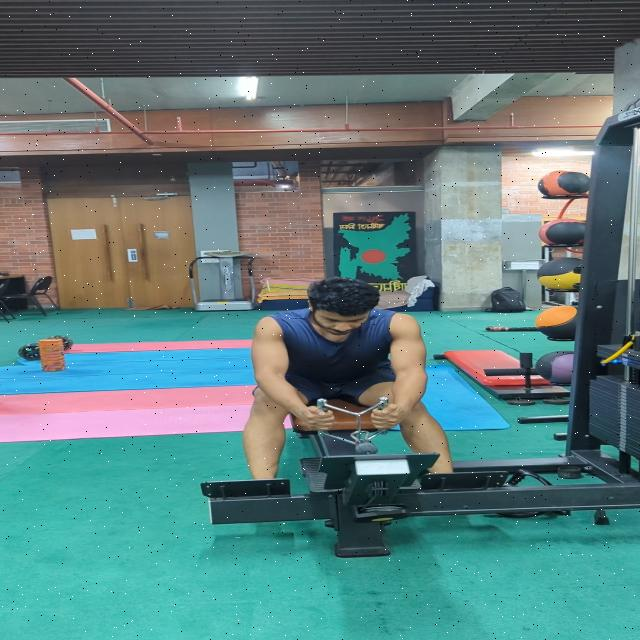Normal_RowingMachineExercise: (242, 275, 455, 487)
